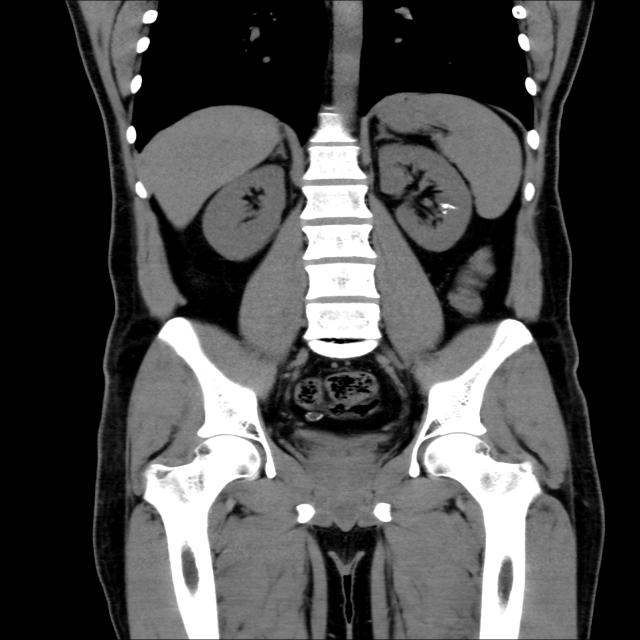kidneystone: (440, 202, 457, 213)
